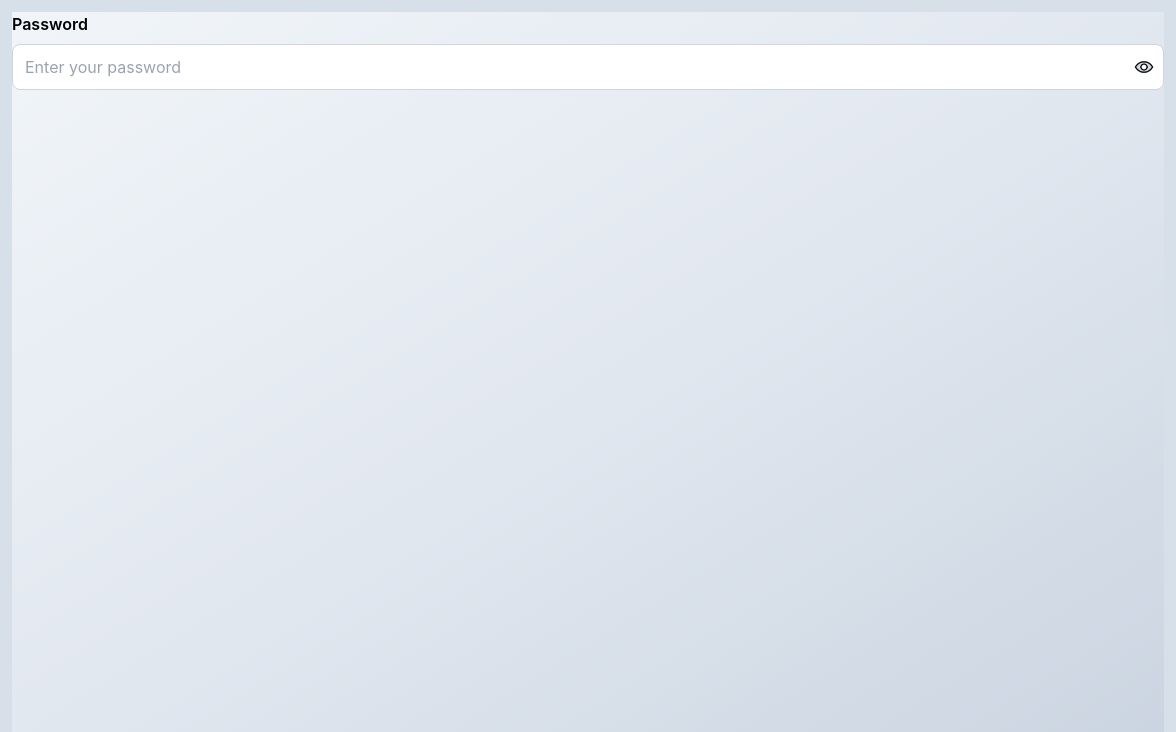
Test: PasswordInput Component › shows error when lowercase letter is missing
Type "ABCDEFG@123" into the password field with placeholder "Enter your password" at [588, 67], box [12,44,1164,90]
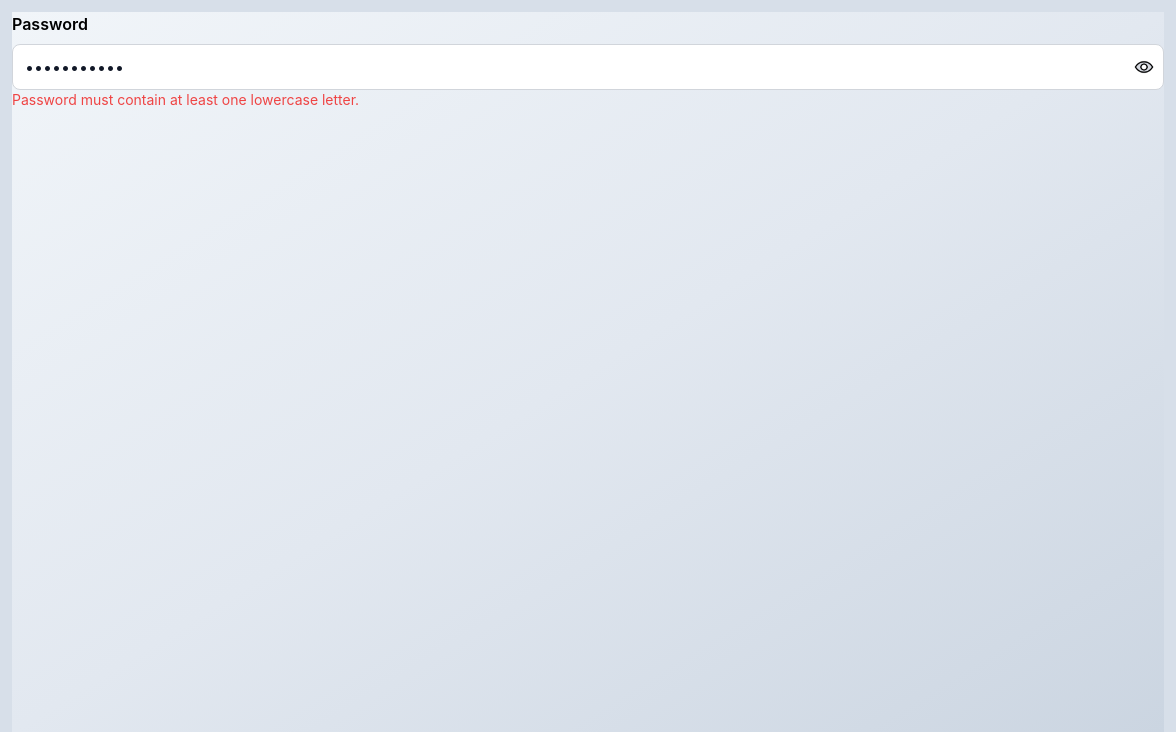
Expected: the text "Password must contain at least one lowercase letter." is shown, [12,91,359,108]
